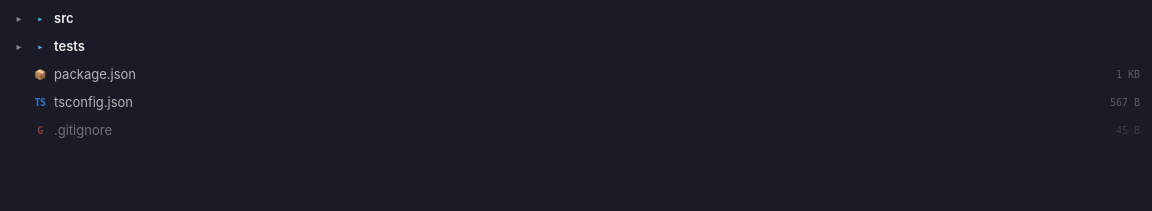
it: FileTree › expands a directory and loads children on click
This screenshot has width=1152, height=211.
Click the text "src": (64, 18) [54,10,74,26]
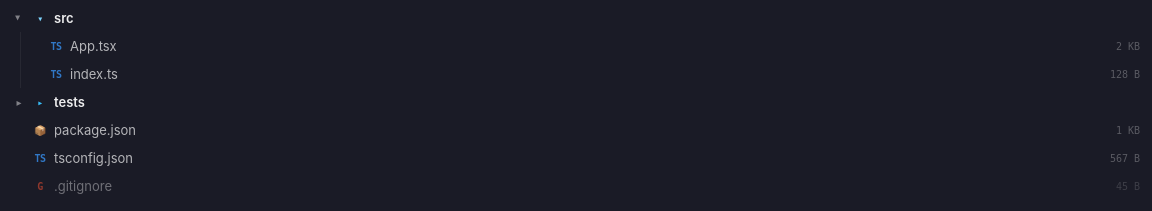
Check: the text "App.tsx" is shown, box [70,38,117,54]
Check: the text "index.ts" is shown, box [70,66,118,82]
